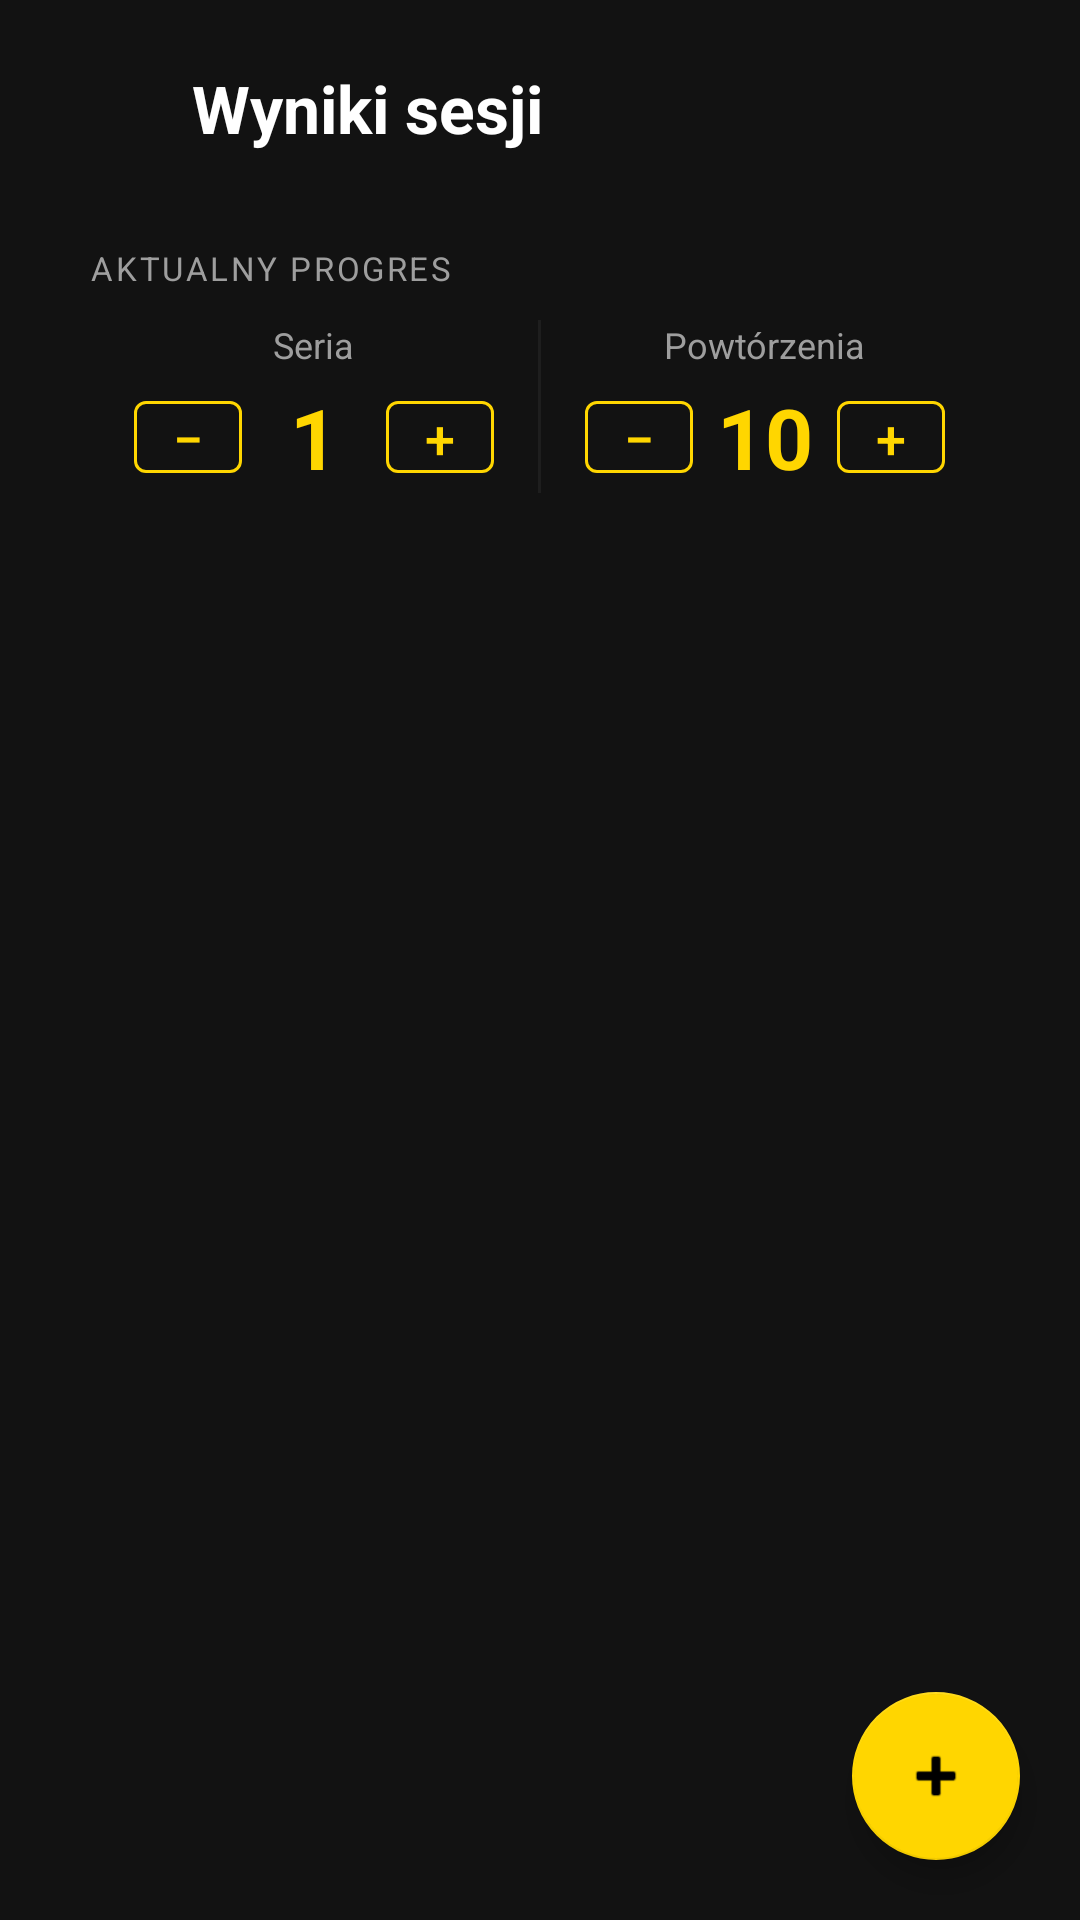

Icons on this 1080x1920 Android screen, each with its box as (x1, y1, x2, y2):
Dodaj wynik: (852, 1692, 1020, 1860)
